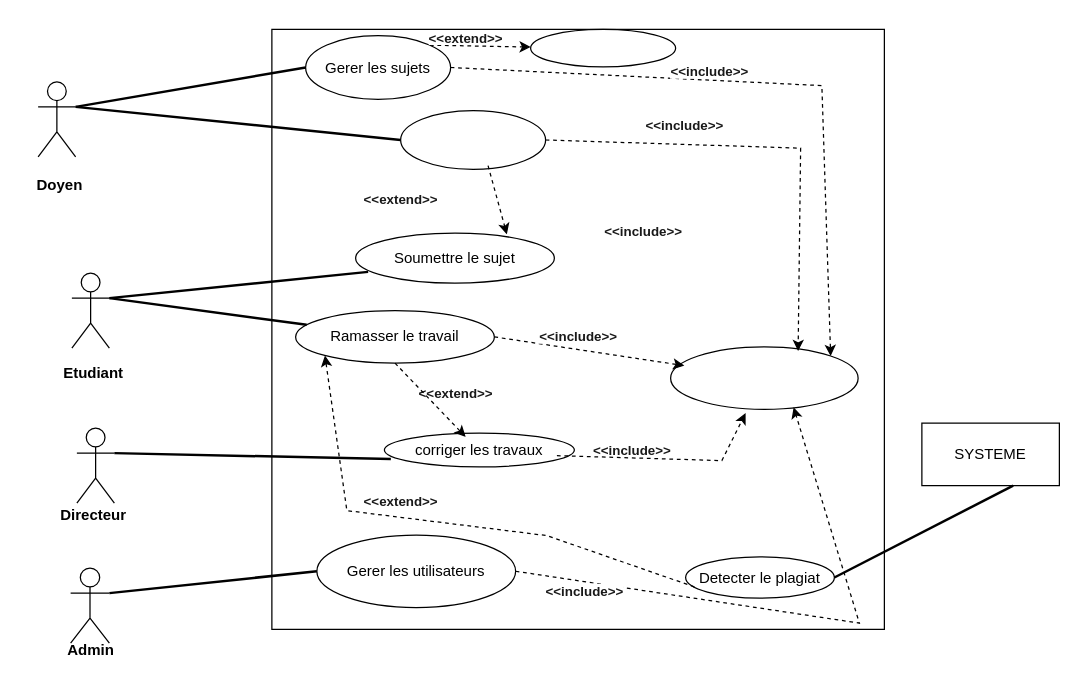
Image size: 1081x690. Some labels were removed from this diagram. Here are the shapes that lost their labels. From the top down, the centre of each, then its label:
At pixel 602 47: "Consulter le rapport".
At pixel 472 139: "Affecter les directeurs".
At pixel 763 377: "S'autentifier".
